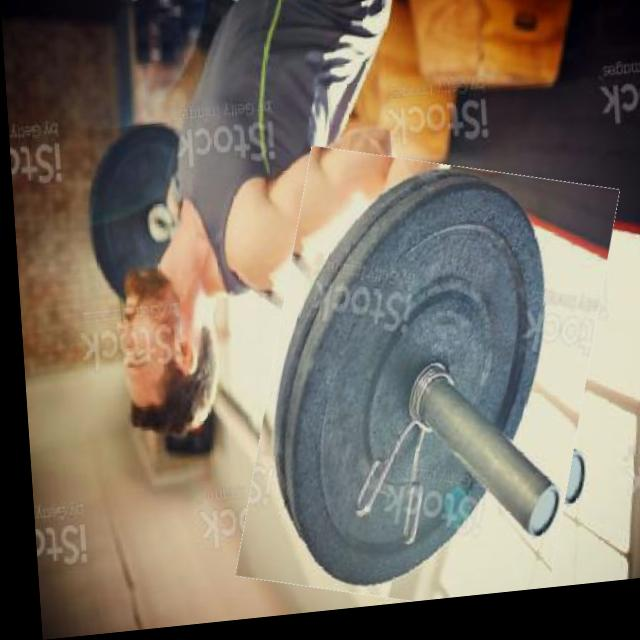barbell: (231, 147, 614, 623)
